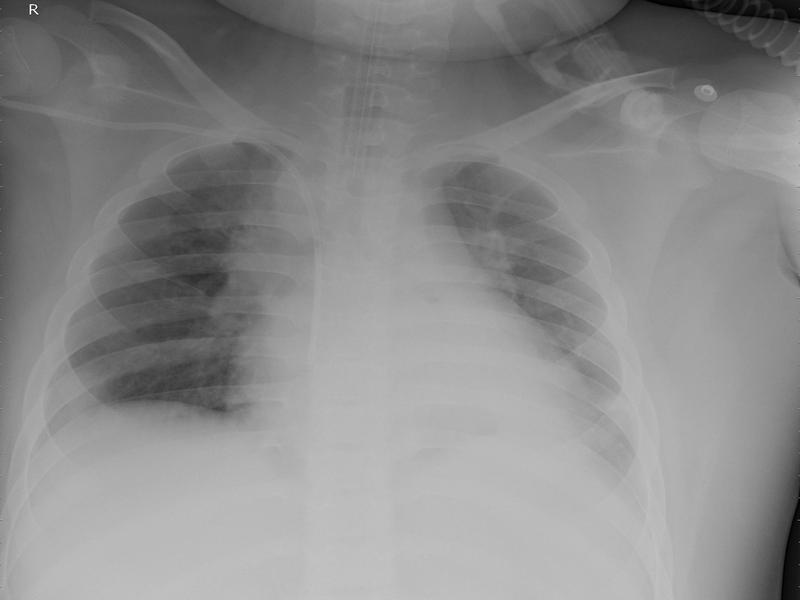PNEUMONIA: (432, 165, 648, 527), (219, 170, 311, 430)
